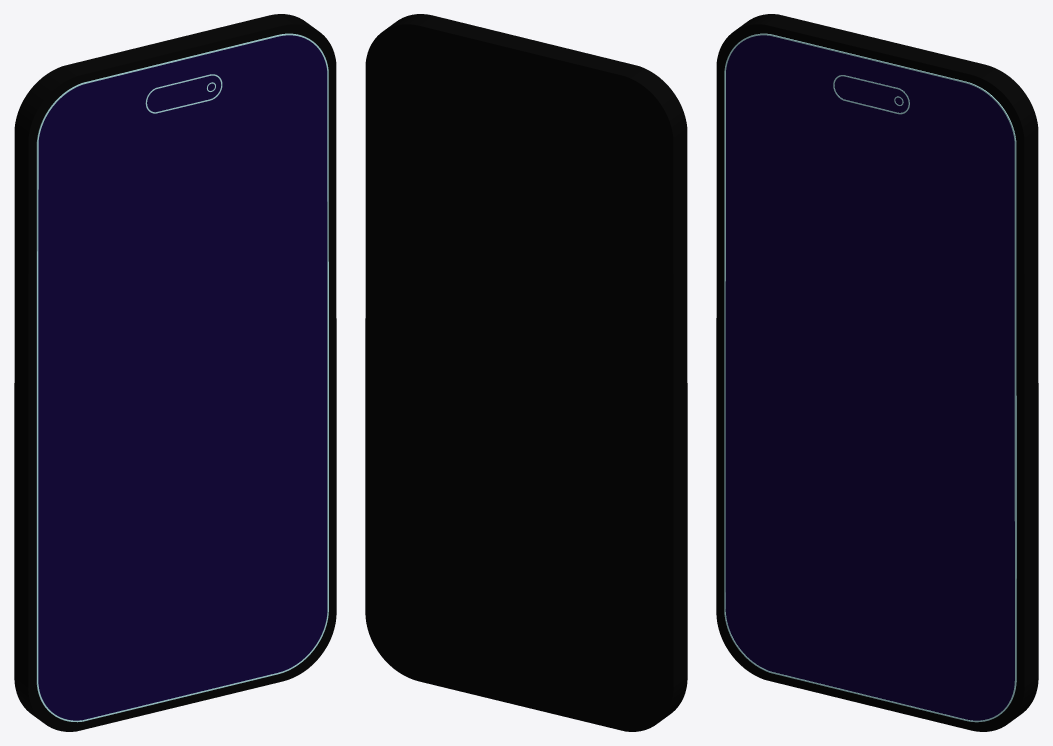
File: Mita_phone2.glb
The picture shows the model from 3 angles, left to right: view 1: azimuth 30°, elevation 25°; view 2: azimuth 150°, elevation 25°; view 3: azimuth 330°, elevation 25°; orthographic projection.
Parts seen in each view (by area): view 1: Cylinder.004, Cylinder.003, Cylinder.005; view 2: Cylinder.003; view 3: Cylinder.004, Cylinder.003, Cylinder.005.
Boxes of the visible parts, <box> form: Cylinder.004: <box>38,35,327,720</box>; Cylinder.003: <box>14,14,336,731</box>; Cylinder.005: <box>36,33,328,722</box>; Cylinder.003: <box>365,14,687,731</box>; Cylinder.004: <box>725,35,1014,720</box>; Cylinder.003: <box>716,14,1038,731</box>; Cylinder.005: <box>724,33,1016,722</box>.
Size of the model in its own units: 2.36 by 4.79 by 0.1902.
